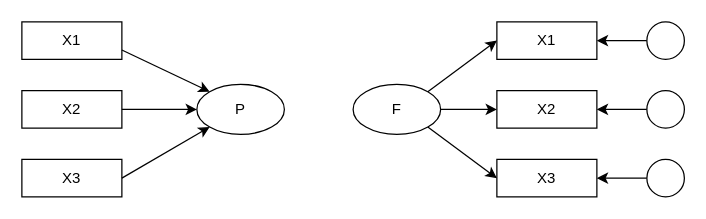
This 706x219 diagram has some shape labels left out. The centre of each missing label's shape, as x and y in pixels:
"e1" goes at [665,40].
"e2" goes at [665,108].
"e3" goes at [665,177].
